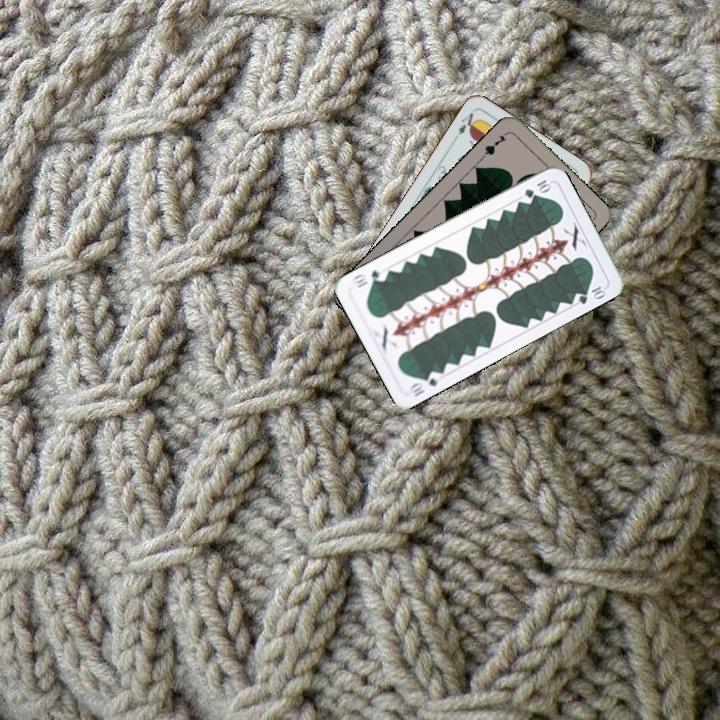EA: (450, 107, 481, 143)
G10: (404, 367, 444, 400), (520, 175, 553, 201)
G7: (479, 131, 509, 161)
